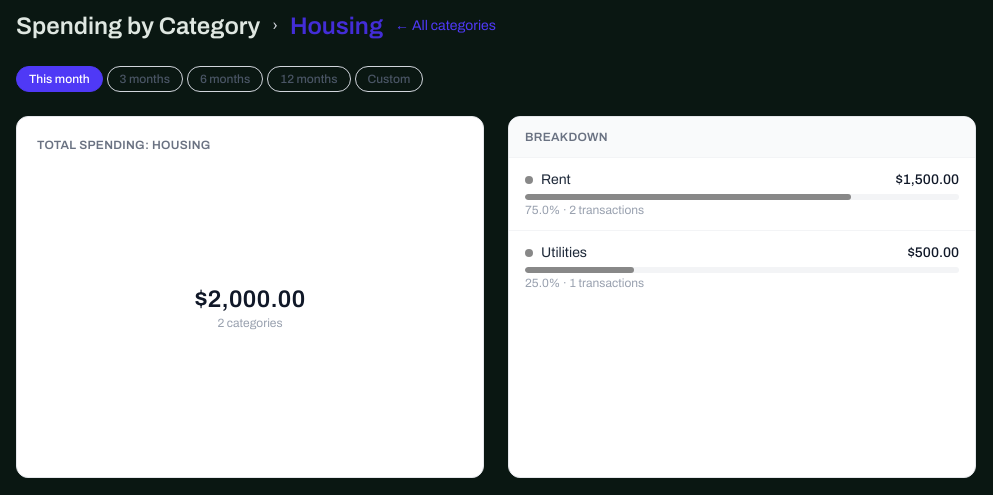
it: ReportSpending › exits the drill-down only via the All categories button
Click the button "← All categories" at (446, 26), box x1=395 y1=16 x2=496 y2=36
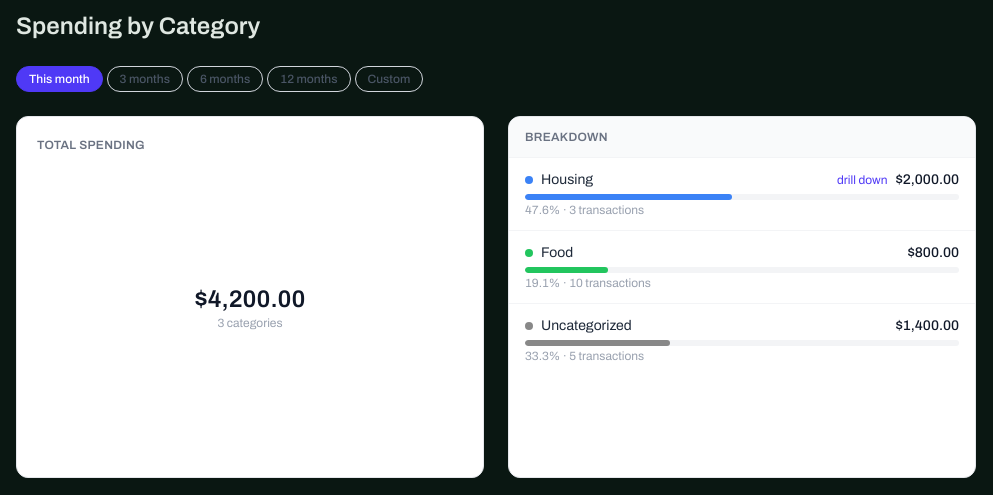
Result: the button "← All categories" is gone
